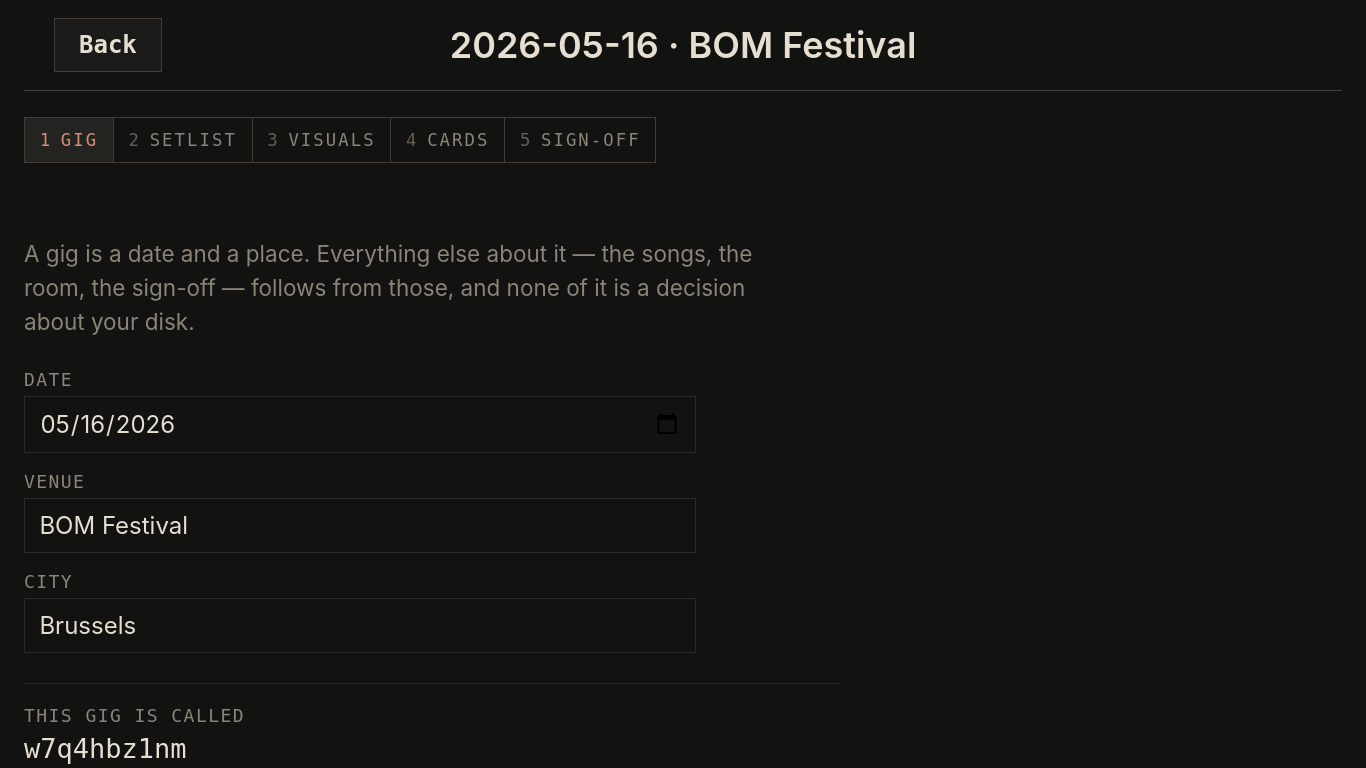
Test: the visuals step › names a server that would not start, rather than framing nothing
The image size is (1366, 768).
What coordinates should you click on to do the following:
click the button with test id "gig-flow-step-3"
I would click on:
 (322, 140)
Its box is [253, 118, 391, 162].
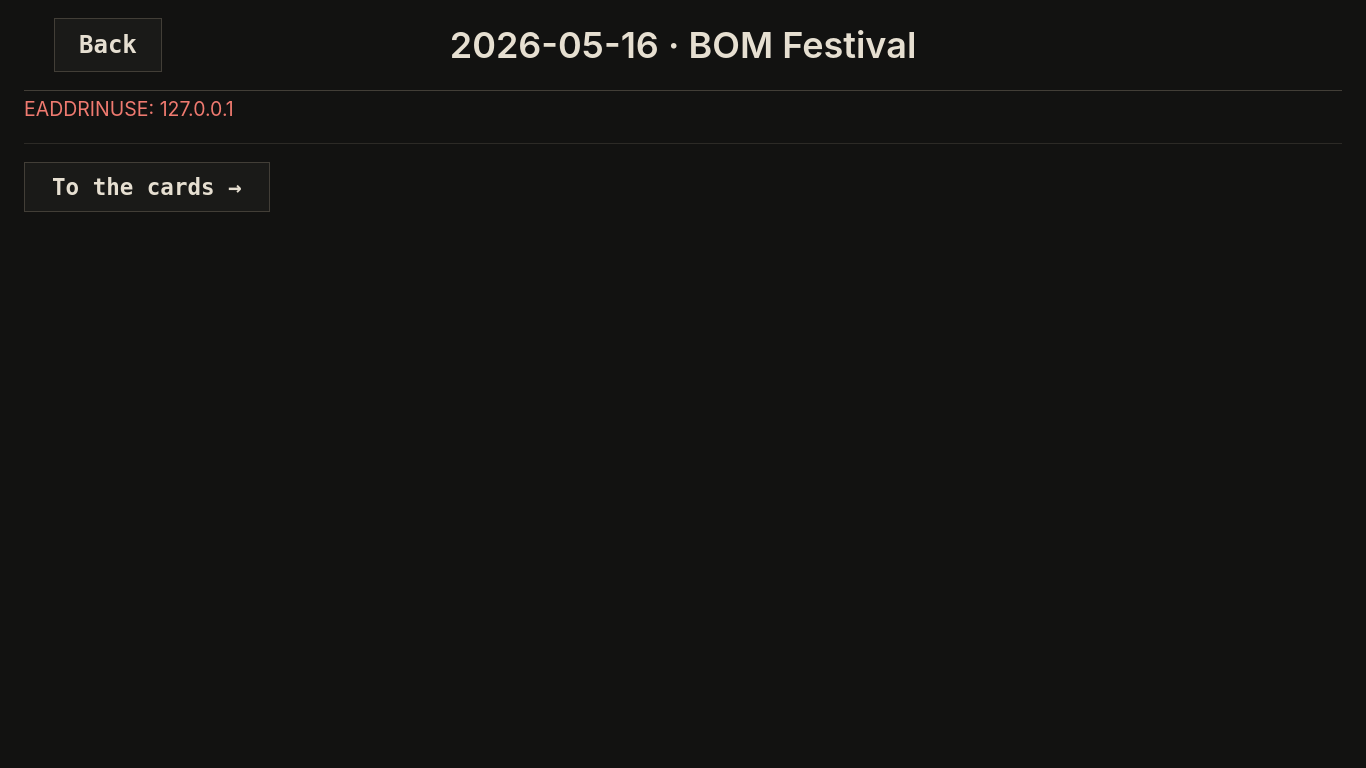
Now the element with test id "gig-flow-visuals" is shown, box [24, 97, 1342, 230]
Now the text with test id "gig-flow-visuals-error" shows "EADDRINUSE", box [24, 97, 234, 121]
